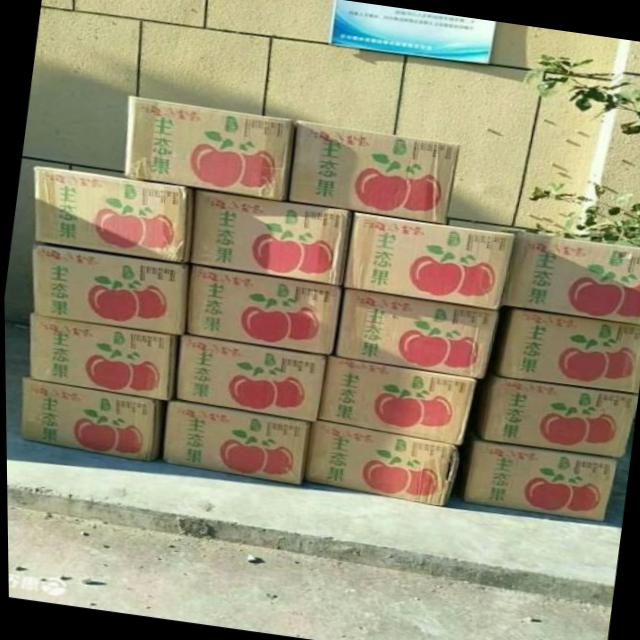box: (123, 95, 294, 202), (287, 120, 459, 224), (341, 212, 514, 311), (189, 189, 353, 288), (34, 165, 195, 264), (452, 427, 617, 521), (317, 355, 485, 447), (466, 369, 636, 459), (333, 289, 501, 380), (31, 242, 187, 336), (185, 264, 341, 356), (303, 421, 460, 507), (173, 334, 326, 422), (160, 398, 312, 486), (28, 313, 178, 402), (500, 231, 640, 326), (489, 307, 640, 394), (20, 377, 163, 462)
